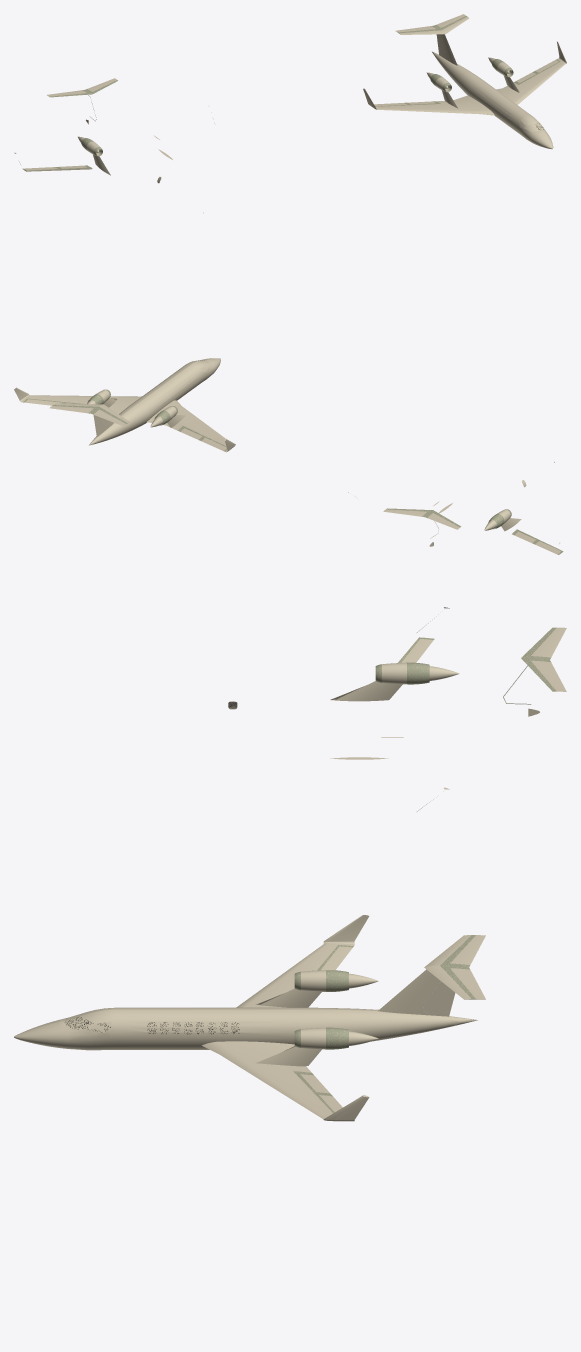
The model's file is aviao1.1.gltf.
3 views of the same model, one above another, from view 1: azimuth 30°, elevation 25°; view 2: azimuth 150°, elevation 25°; view 3: azimuth 270°, elevation 25° (orthographic). The views are drawn at different scales.
Visible parts, largest first — view 1: instance_0.106, instance_0.102, instance_14.101, instance_14.105; view 2: instance_0.106, instance_0.102, instance_14.101, instance_14.105; view 3: instance_14.105, instance_14.101, instance_0.102, instance_14.088, instance_0.106.
Boxes of the visible parts, box(x1,y1,x2,y2) form: instance_0.106: box(432, 52, 552, 149); instance_0.102: box(363, 89, 494, 115); instance_14.101: box(496, 41, 566, 104); instance_14.105: box(434, 52, 553, 148); instance_0.106: box(89, 358, 220, 445); instance_0.102: box(146, 400, 235, 452); instance_14.101: box(14, 387, 141, 413); instance_14.105: box(89, 358, 213, 444); instance_14.105: box(14, 1009, 477, 1050); instance_14.101: box(202, 1041, 369, 1121); instance_0.102: box(236, 915, 369, 1007); instance_14.088: box(378, 969, 450, 1016); instance_0.106: box(15, 1007, 473, 1035).
Size of the model in its own units: 13054 by 5204 by 6252.
